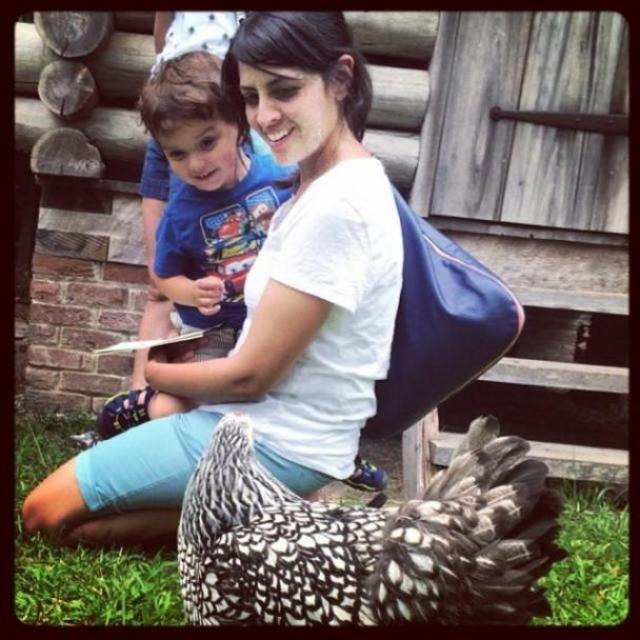Chicken: (172, 410, 573, 639)
